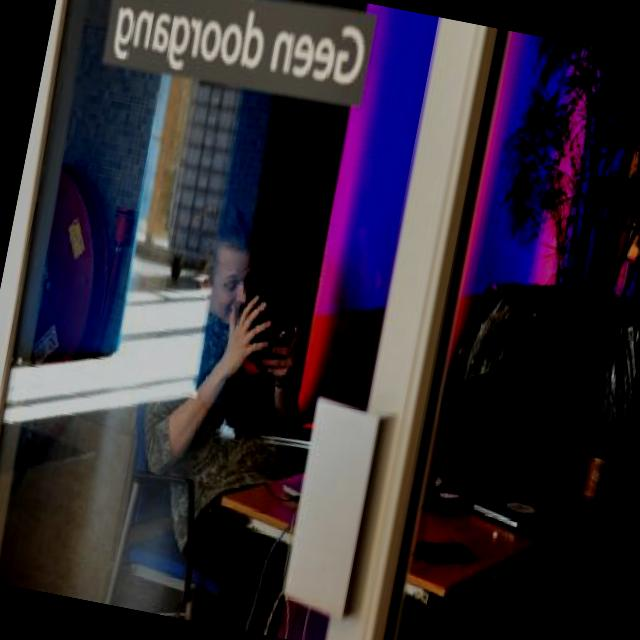Person: (101, 198, 347, 634)
